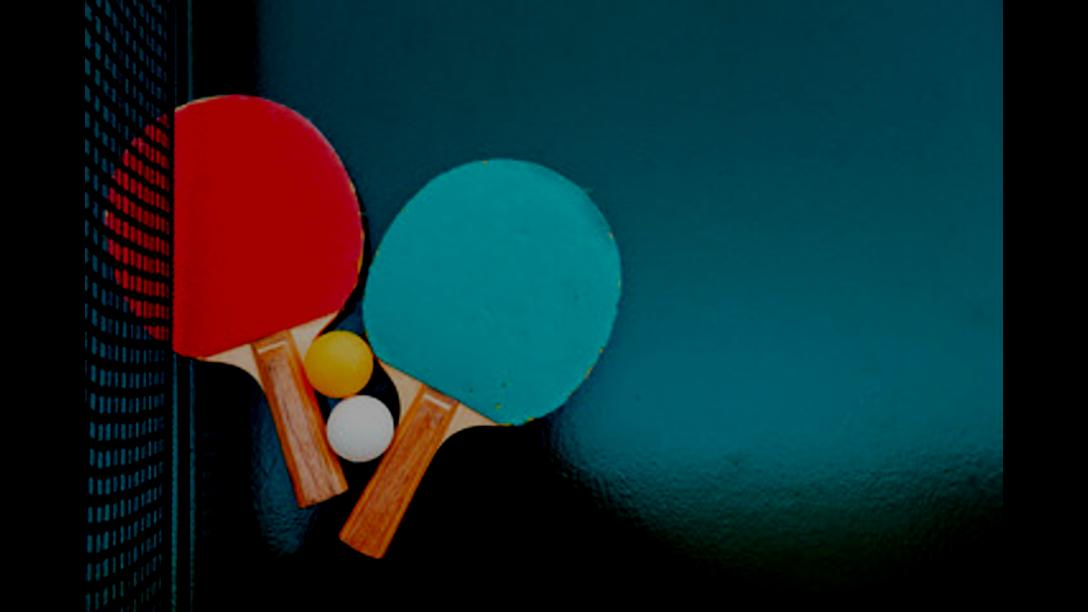Table-Tennis-Ball: (306, 330, 373, 396), (328, 396, 394, 460)
